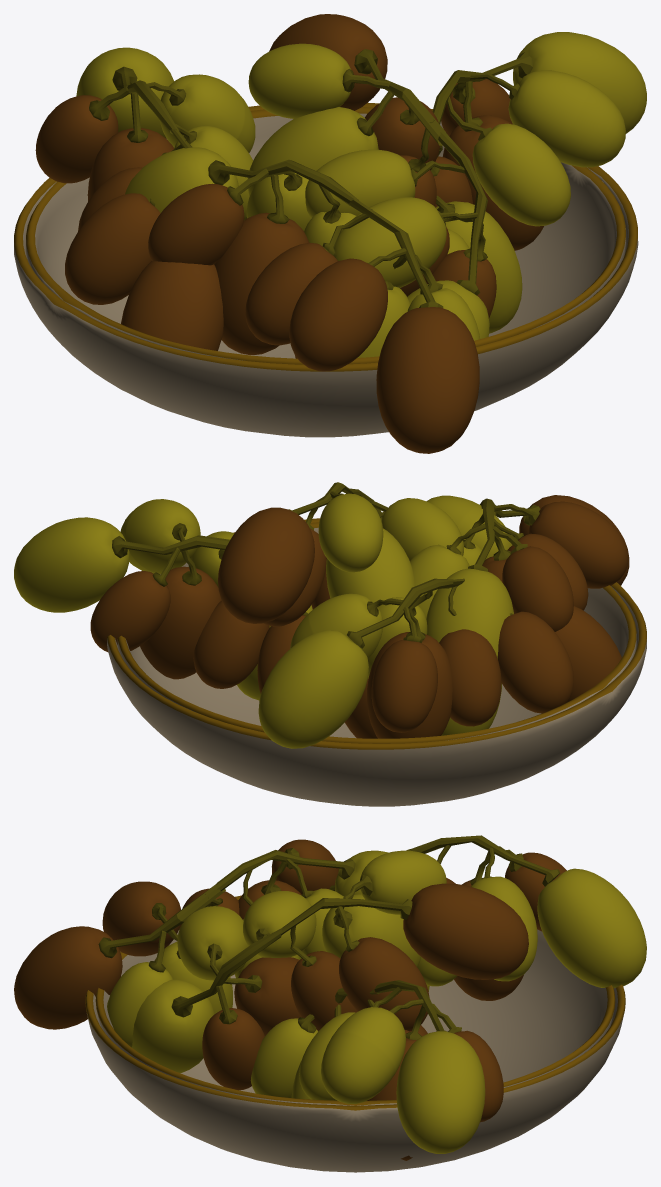
The model's file is datess.fbx.
3 views of the same model, one above another, from view 1: azimuth 30°, elevation 25°; view 2: azimuth 150°, elevation 25°; view 3: azimuth 270°, elevation 25° (orthographic). The views are drawn at different scales.
Visible parts, largest first — view 1: polySurface47; view 2: polySurface47; view 3: polySurface47.
Boxes of the visible parts, x1,y1,x2,y2 form: polySurface47: (14, 14, 646, 453); polySurface47: (14, 482, 646, 806); polySurface47: (14, 835, 646, 1172).
Size of the model in its own units: 2.43 by 1.17 by 2.4.
